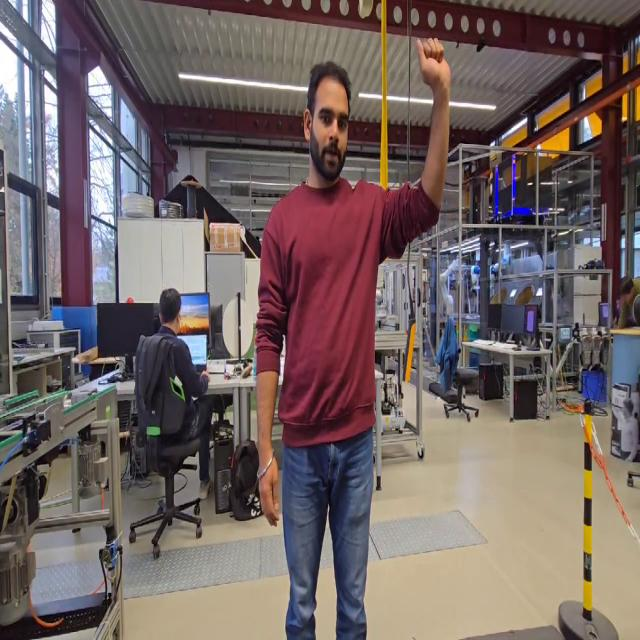closed_fist: (412, 30, 454, 98)
